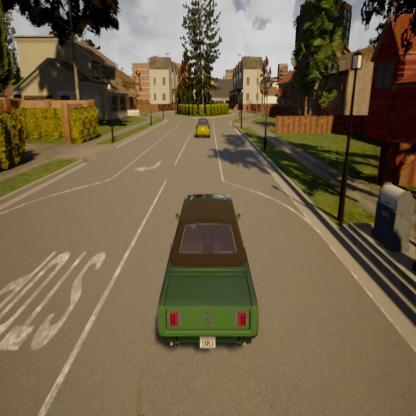Cars: (158, 193, 260, 352), (195, 119, 212, 138)
